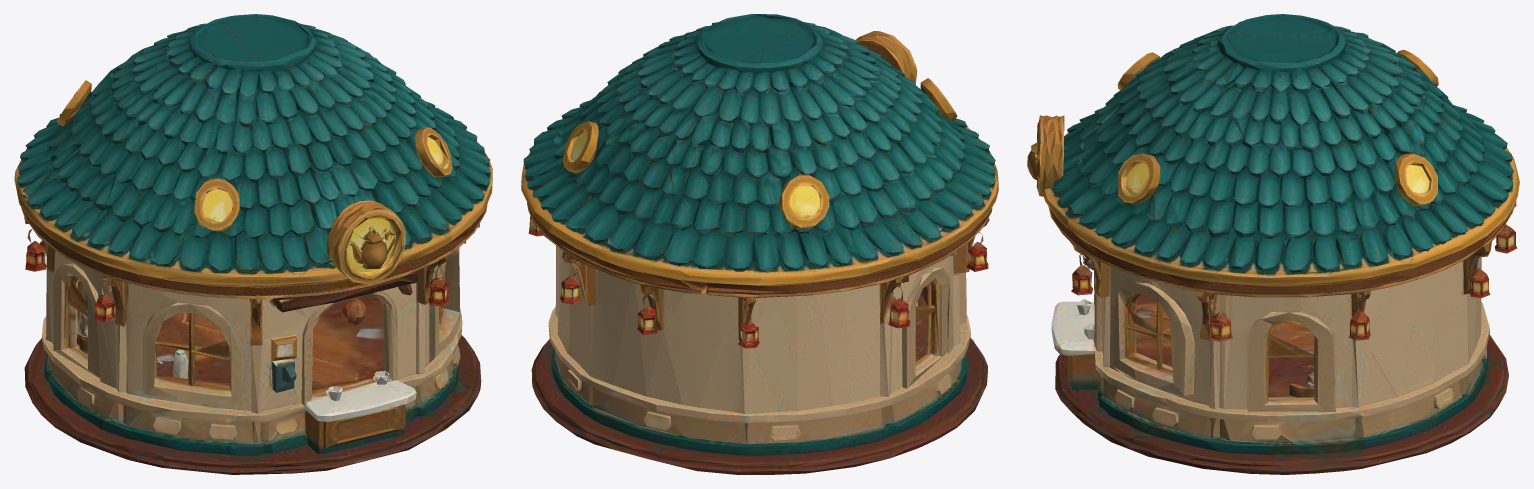
File: tea_house.glb
3 views of the same model, side by side, from view 1: azimuth 30°, elevation 25°; view 2: azimuth 150°, elevation 25°; view 3: azimuth 270°, elevation 25° (orthographic).
Visible parts, largest first — view 1: Mesh_0; view 2: Mesh_0; view 3: Mesh_0.
Boxes of the visible parts, <box> form: Mesh_0: <box>14,14,492,474</box>; Mesh_0: <box>521,14,998,474</box>; Mesh_0: <box>1027,14,1519,474</box>.
Bounding box in the file's own units: 1.84 × 1.45 × 1.9.
Materials: 1 (1 with a texture image).
